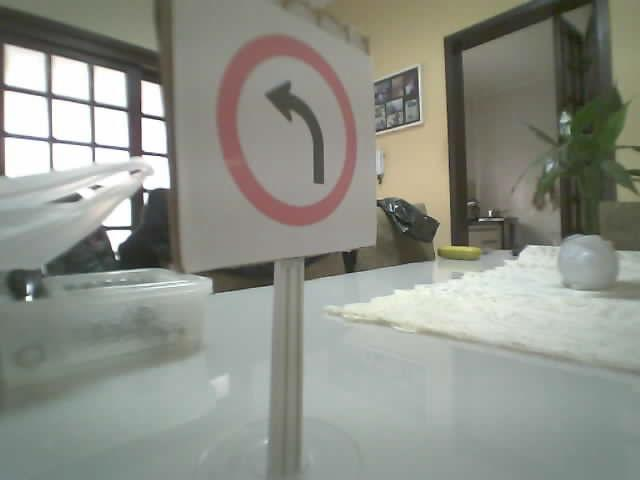R-25a_esquerda: (216, 33, 356, 224)
